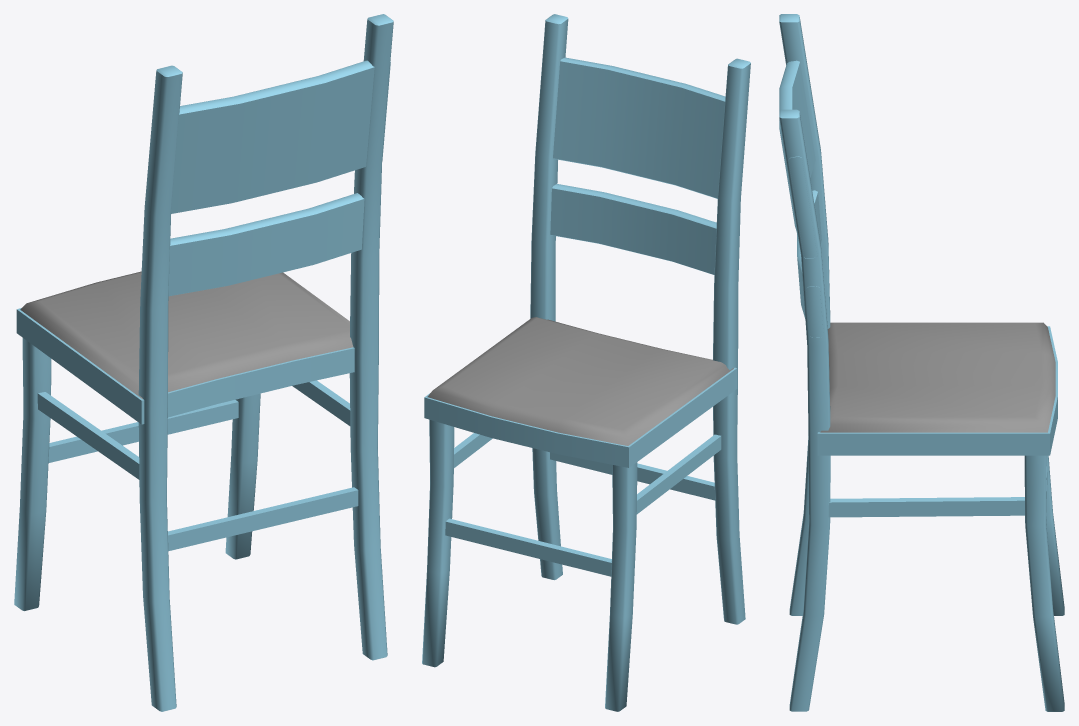
The model's file is FURNITURE_chair_02.FBX.
3 views of the same model, side by side, from view 1: azimuth 30°, elevation 25°; view 2: azimuth 150°, elevation 25°; view 3: azimuth 270°, elevation 25° (orthographic). The views are drawn at different scales.
Parts seen in each view (by area): view 1: FURNITURE_chair_02; view 2: FURNITURE_chair_02; view 3: FURNITURE_chair_02.
Boxes of the visible parts, left/top/right/bottom form: FURNITURE_chair_02: left=14, top=14, right=393, bottom=711; FURNITURE_chair_02: left=422, top=14, right=750, bottom=711; FURNITURE_chair_02: left=779, top=14, right=1064, bottom=711.
Size of the model in its own units: 53.15 by 138 by 59.79.
